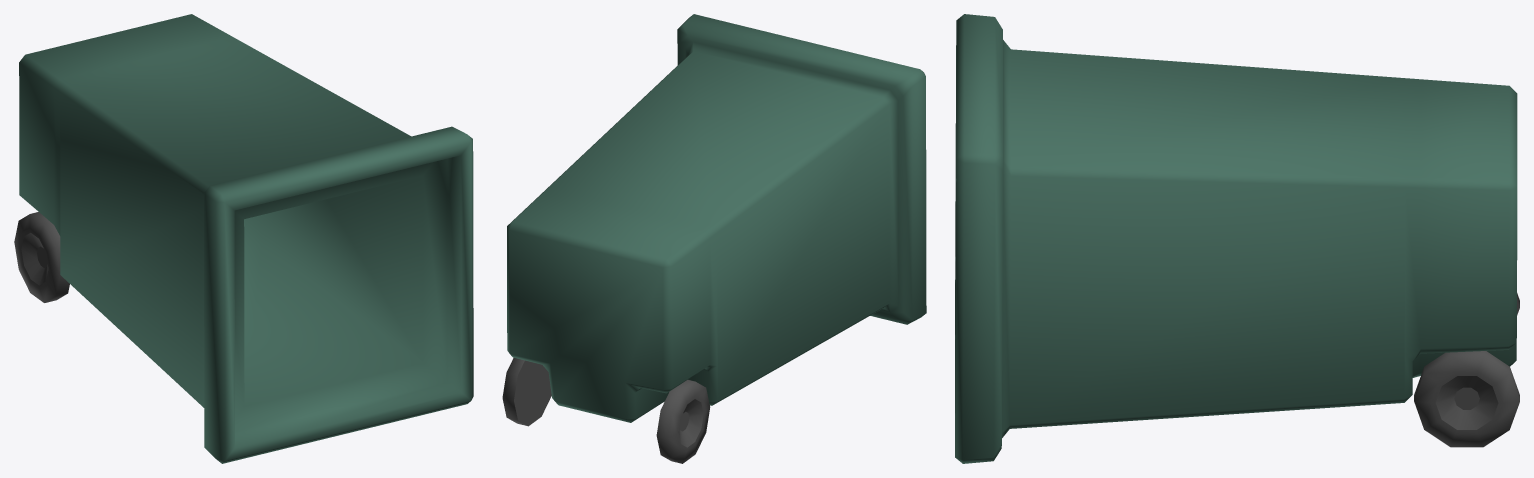
Rendered from trashbin.fbx.
3 renders of one model, left to right at view 1: azimuth 30°, elevation 25°; view 2: azimuth 150°, elevation 25°; view 3: azimuth 270°, elevation 25°, orthographic. The views are drawn at different scales.
Visible parts, largest first — view 1: trashbin; view 2: trashbin; view 3: trashbin.
Part boxes in pixels (x1=…): trashbin: x1=14, y1=14, x2=473, y2=463; trashbin: x1=502, y1=14, x2=926, y2=463; trashbin: x1=955, y1=14, x2=1519, y2=463.
Bounding box in the file's own units: 208 × 210 × 342.
